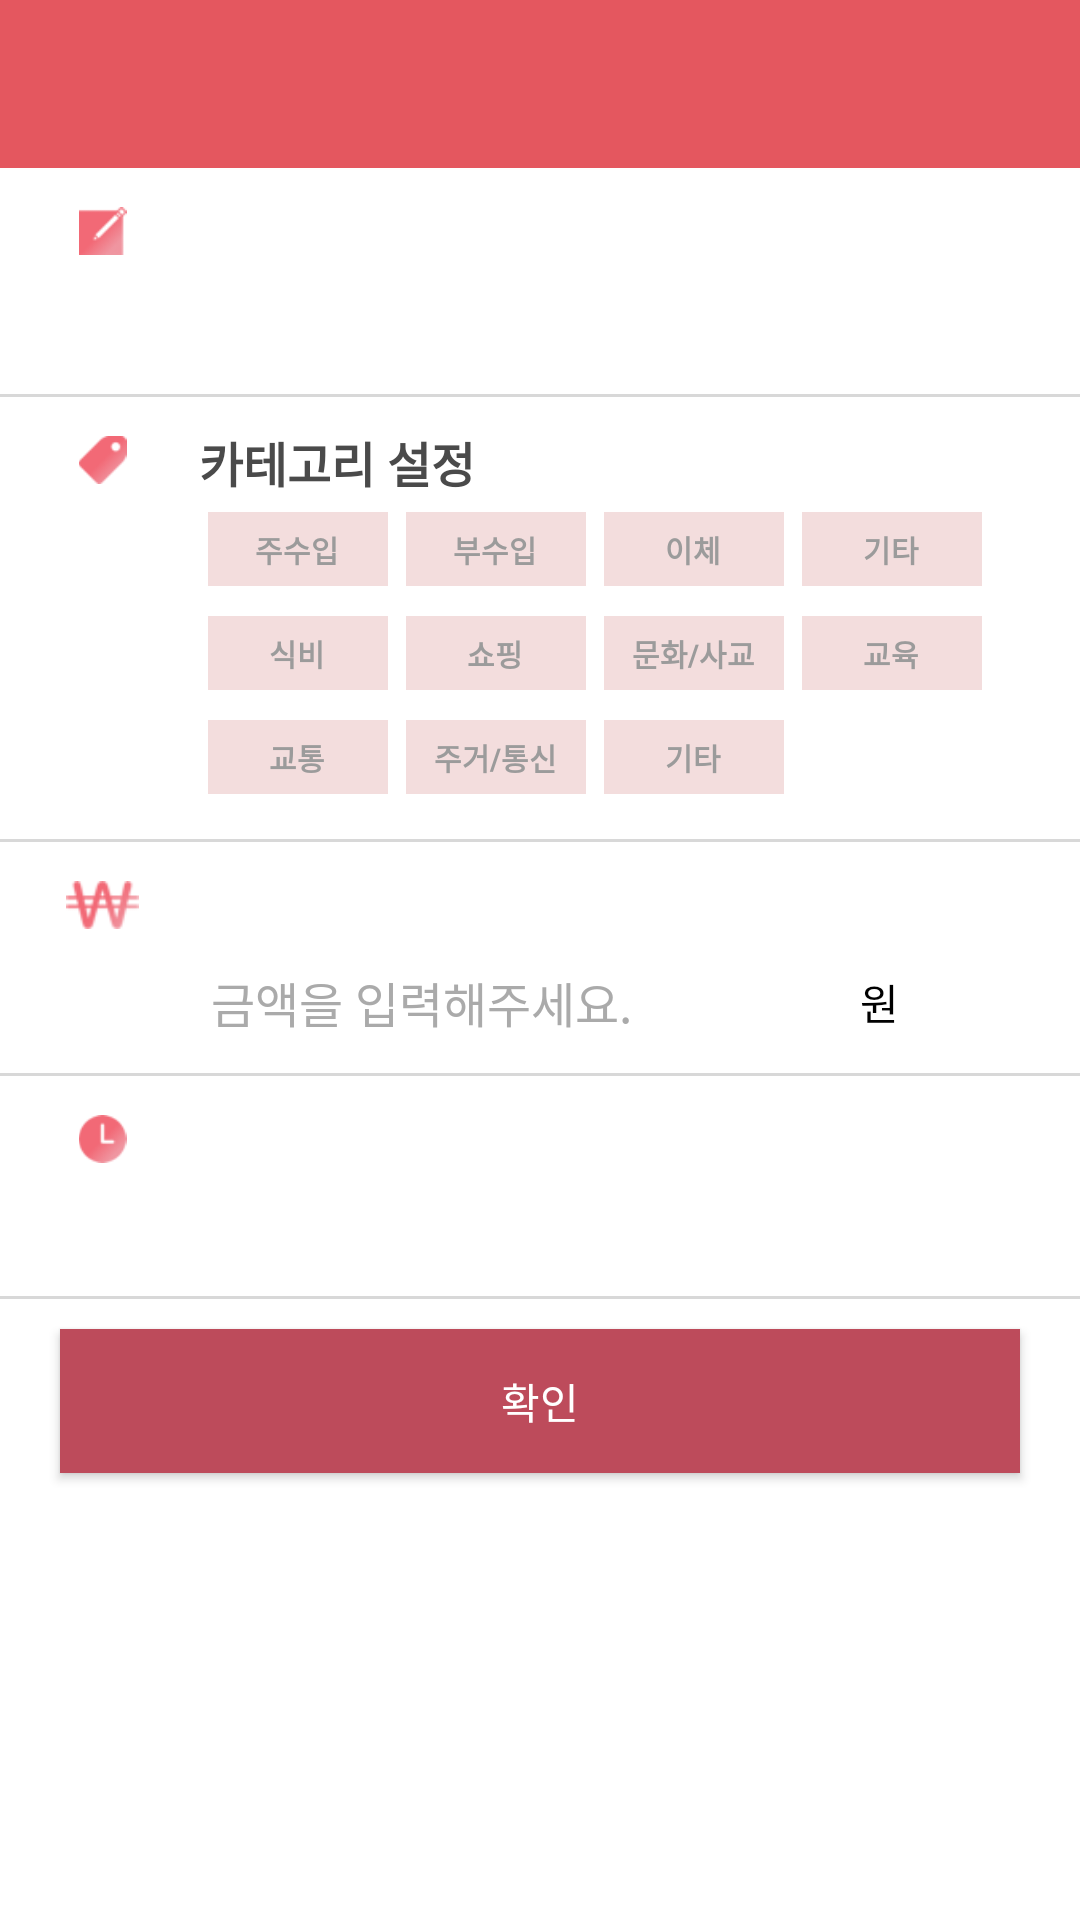

Where icons sit on this 1080 × 1920 app screen, as (x1, y1, x2, y2):
clock: (79, 1115, 127, 1163)
edit: (79, 207, 127, 255)
tag: (79, 436, 127, 484)
won: (66, 881, 139, 929)
